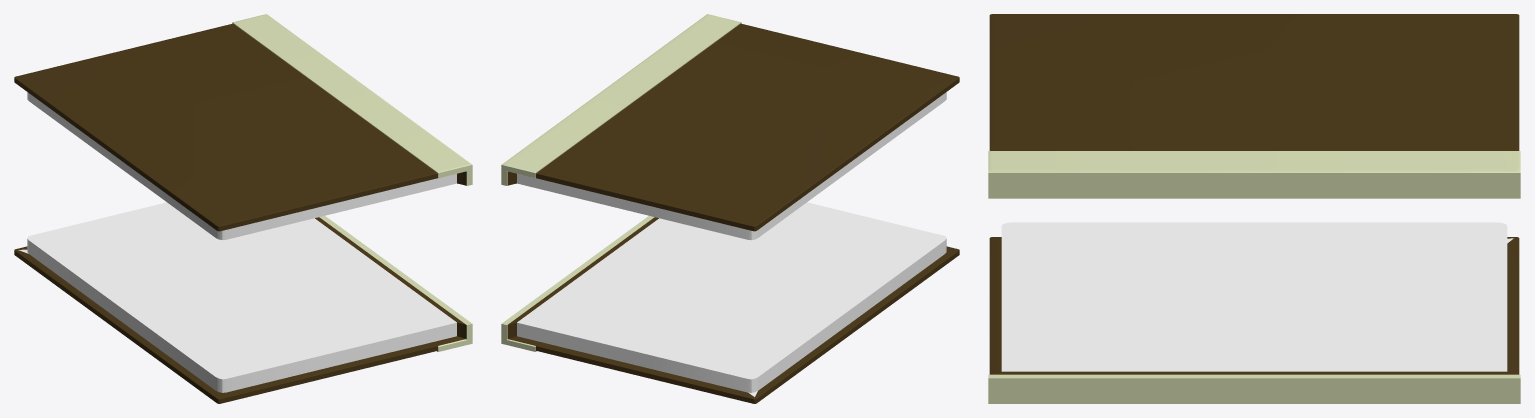
File: journal.fbx
The picture shows the model from 3 angles, left to right: view 1: azimuth 30°, elevation 25°; view 2: azimuth 150°, elevation 25°; view 3: azimuth 270°, elevation 25°; orthographic projection. The views are drawn at different scales.
Visible parts, largest first — view 1: journal_2, journal_1; view 2: journal_2, journal_1; view 3: journal_2, journal_1.
Boxes of the visible parts, x1,y1,x2,y2 form: journal_2: (14, 14, 472, 240); journal_1: (14, 202, 472, 403); journal_2: (501, 14, 959, 240); journal_1: (501, 202, 959, 403); journal_2: (988, 14, 1520, 198); journal_1: (988, 222, 1520, 403).
Bounding box in the file's own units: 200 × 135 × 281.
